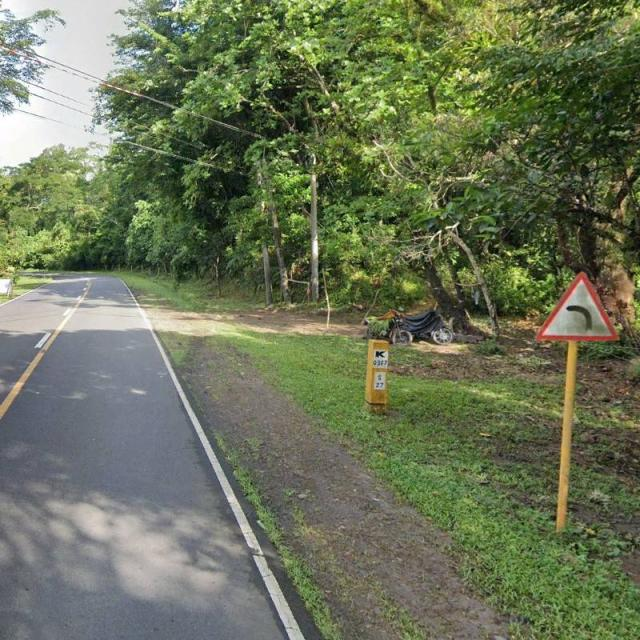warn_left_curve: (534, 269, 622, 342)
